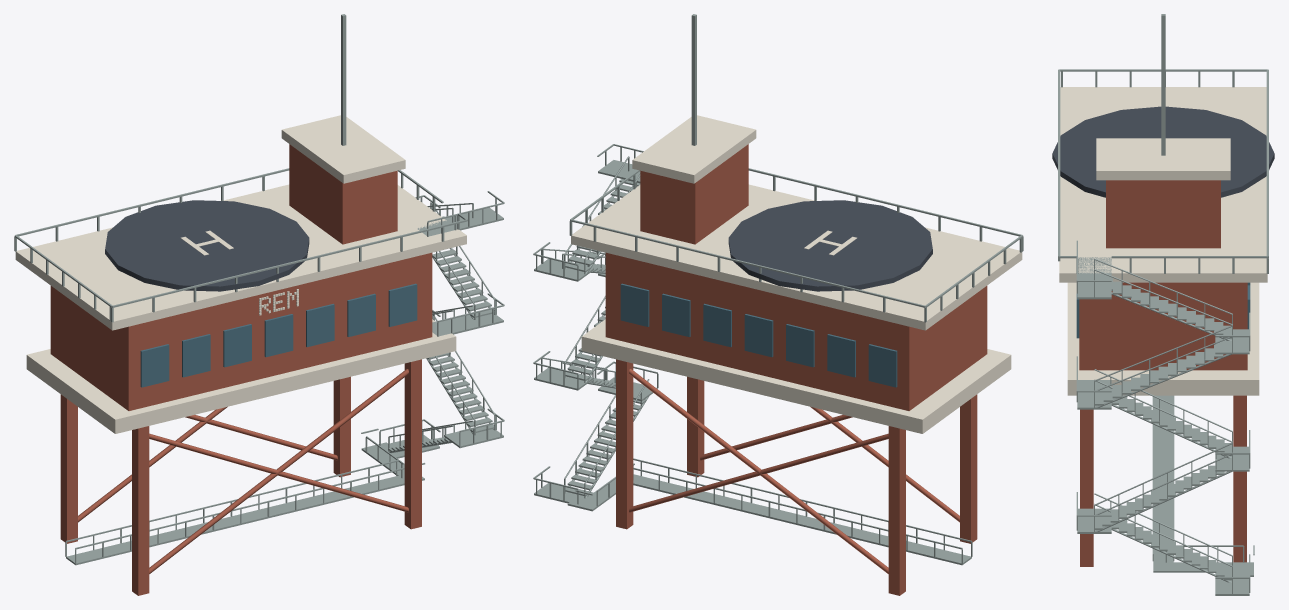
The model's file is rem-eiland.glb.
3 views of the same model, side by side, from view 1: azimuth 30°, elevation 25°; view 2: azimuth 150°, elevation 25°; view 3: azimuth 270°, elevation 25° (orthographic). The views are drawn at different scales.
Visible parts, largest first — view 1: rem-eiland; view 2: rem-eiland; view 3: rem-eiland.
Part boxes in pixels (box(x1,y1,x2,y2)): rem-eiland: box(14, 14, 504, 595); rem-eiland: box(533, 14, 1023, 595); rem-eiland: box(1052, 14, 1274, 595).
Bounding box in the file's own units: 29.15 × 34.2 × 12.96.
